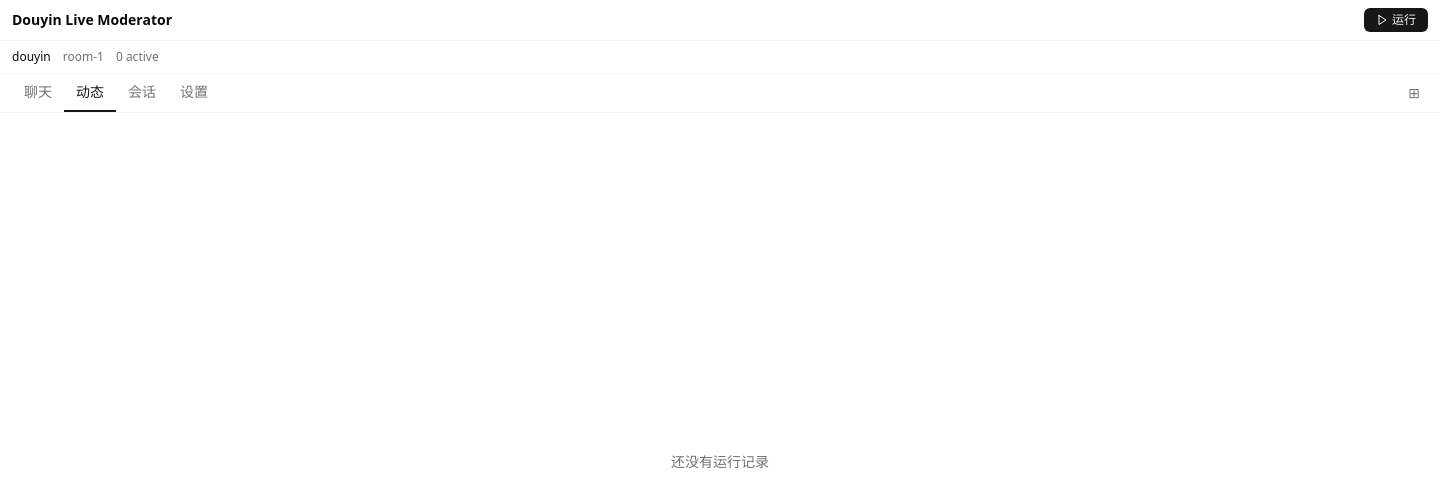
SpecRunSurface stop control › shows stop immediately while a live-room run command is pending
Click the button "运行" at (1396, 20), box top-left (1364, 8), bottom-right (1428, 32)
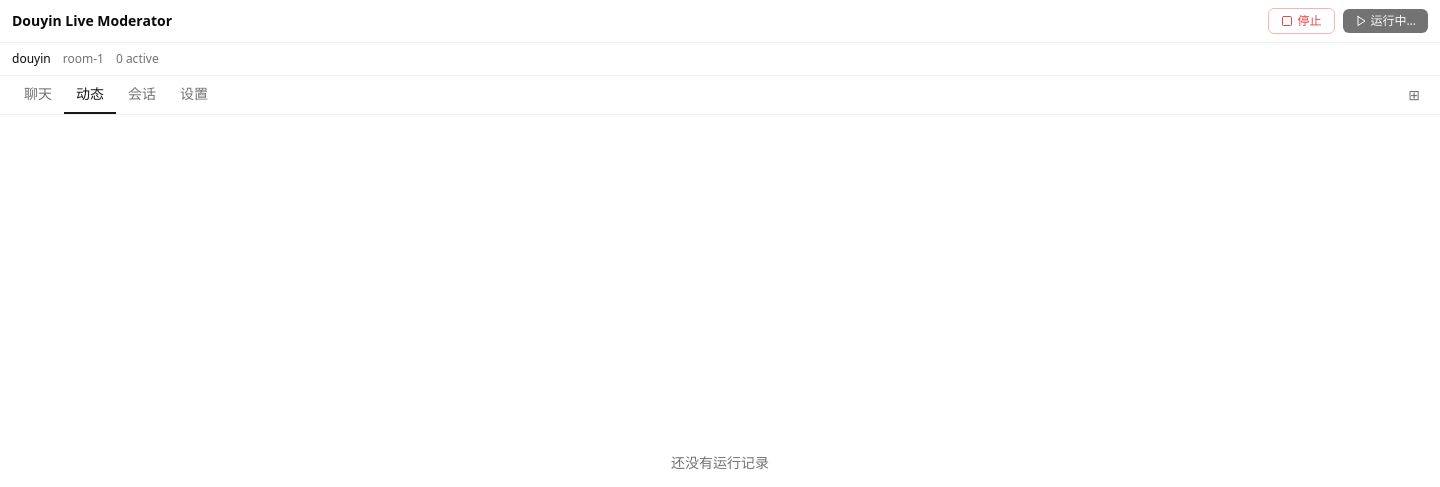
Expected: the button "停止" is shown, top-left (1268, 8), bottom-right (1334, 34)
